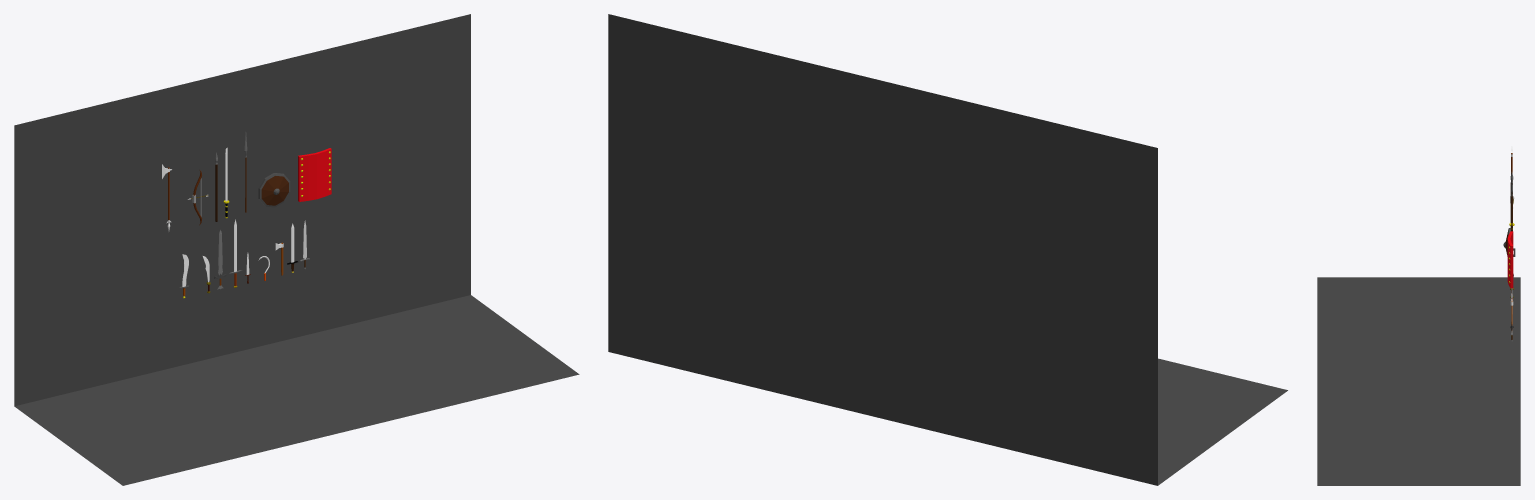
The model's file is collection.fbx.
3 views of the same model, side by side, from view 1: azimuth 30°, elevation 25°; view 2: azimuth 150°, elevation 25°; view 3: azimuth 270°, elevation 25° (orthographic). The views are drawn at different scales.
Visible parts, largest first — view 1: Plane.001, Cube.001; view 2: Plane.001; view 3: Plane.001, Cube.001.
Part boxes in pixels (bbox=[...]): Plane.001: bbox=[14, 14, 579, 485]; Cube.001: bbox=[258, 148, 331, 207]; Plane.001: bbox=[608, 14, 1287, 485]; Plane.001: bbox=[1317, 277, 1520, 485]; Cube.001: bbox=[1503, 228, 1515, 288].
Bounding box in the file's own units: 2234 × 1313 × 920.
